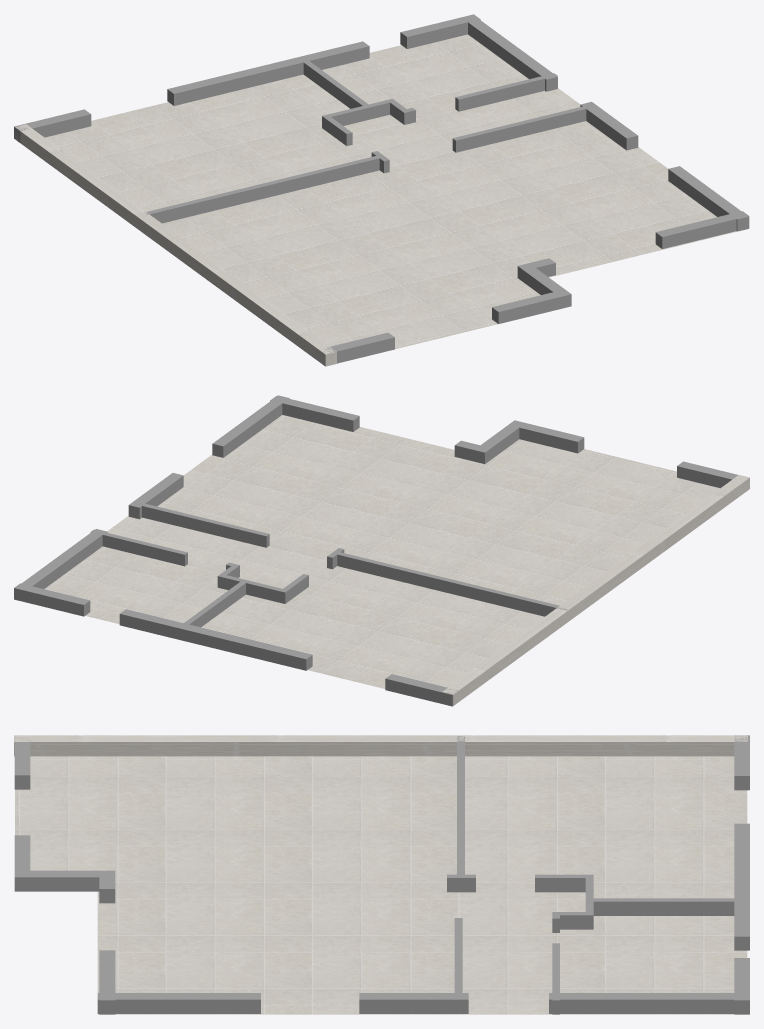
Rendered from room1.fbx.
3 views of the same model, one above another, from view 1: azimuth 30°, elevation 25°; view 2: azimuth 150°, elevation 25°; view 3: azimuth 270°, elevation 25° (orthographic). The views are drawn at different scales.
Parts seen in each view (by area): view 1: Floor, Wall, Wall10, Wall12, Wall13, Wall8, Wall5, Wall6, Wall2, Wall18, Wall9, Wall11 (+5 smaller); view 2: Floor, Wall, Wall10, Wall12, Wall13, Wall8, Wall6, Wall5, Wall9, Wall18, Wall2, Wall11 (+6 smaller); view 3: Floor, Wall, Wall8, Wall6, Wall15, Wall7, Wall10, Wall3, Wall12, Wall5, Wall17, Wall2 (+8 smaller).
Boxes of the visible parts, x1,y1,x2,y2 form: Floor: (45, 34, 749, 349); Wall: (14, 124, 336, 366); Wall10: (167, 41, 369, 105); Wall12: (145, 156, 380, 223); Wall13: (452, 104, 594, 152); Wall8: (462, 15, 557, 91); Wall5: (655, 211, 749, 248); Wall6: (668, 166, 748, 231); Wall2: (492, 289, 571, 323); Wall18: (455, 73, 557, 111); Wall9: (400, 14, 480, 48); Wall11: (14, 109, 91, 142); Floor: (44, 415, 719, 688); Wall: (442, 475, 749, 705); Wall10: (119, 609, 312, 670); Wall12: (332, 551, 567, 616); Wall13: (142, 503, 269, 547); Wall8: (17, 529, 107, 590); Wall6: (212, 395, 289, 457); Wall5: (270, 396, 359, 431); Wall9: (14, 583, 90, 616); Wall18: (90, 529, 187, 566); Wall2: (509, 420, 584, 453); Wall11: (385, 674, 458, 706); Floor: (15, 756, 747, 1014); Wall: (14, 735, 747, 756); Wall8: (549, 993, 748, 1013); Wall6: (97, 993, 260, 1013); Wall15: (585, 898, 747, 915); Wall7: (359, 993, 468, 1013); Wall10: (734, 823, 749, 950); Wall3: (15, 870, 113, 891); Wall12: (457, 736, 464, 877); Wall5: (99, 950, 115, 1014); Wall17: (535, 874, 585, 892); Wall2: (14, 835, 30, 891).
Bounding box in the file's own units: 39.72 × 1 × 46.62.
